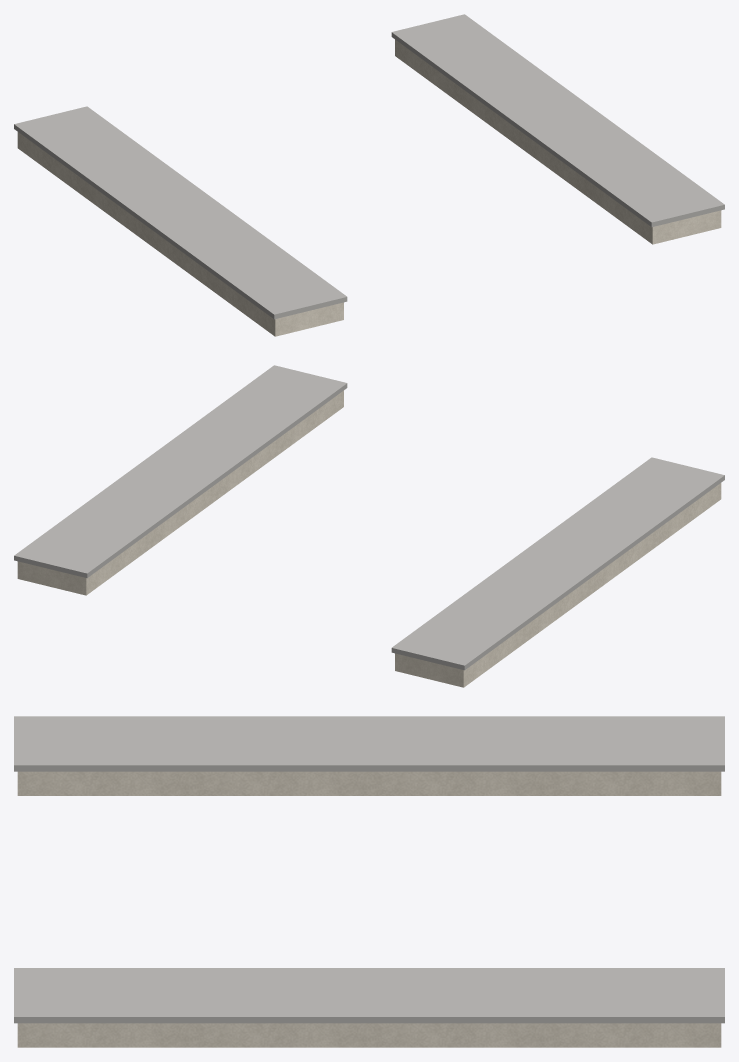
Rendered from roof_stair_core.glb.
3 views of the same model, one above another, from view 1: azimuth 30°, elevation 25°; view 2: azimuth 150°, elevation 25°; view 3: azimuth 270°, elevation 25° (orthographic). The views are drawn at different scales.
Parts seen in each view (by area): view 1: roof_stair_core_roof, roof_stair_core_plaster; view 2: roof_stair_core_roof, roof_stair_core_plaster; view 3: roof_stair_core_roof, roof_stair_core_plaster.
Part boxes in pixels (x1=…): roof_stair_core_roof: x1=14, y1=14, x2=724, y2=319; roof_stair_core_plaster: x1=17, y1=39, x2=721, y2=336; roof_stair_core_roof: x1=14, y1=365, x2=724, y2=670; roof_stair_core_plaster: x1=17, y1=390, x2=721, y2=687; roof_stair_core_roof: x1=14, y1=716, x2=724, y2=1023; roof_stair_core_plaster: x1=17, y1=771, x2=721, y2=1047.
Size of the model in its own units: 4 by 0.2 by 4.
2 materials, 1 textured.
